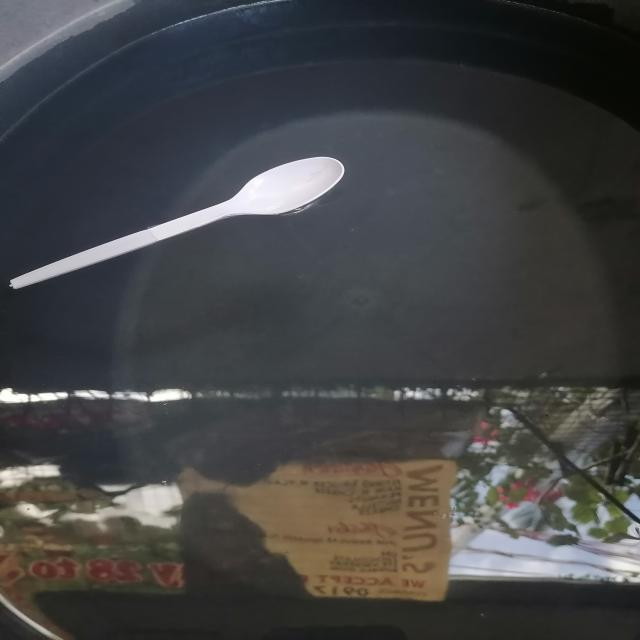Plastic Spoon: (11, 157, 344, 289)
